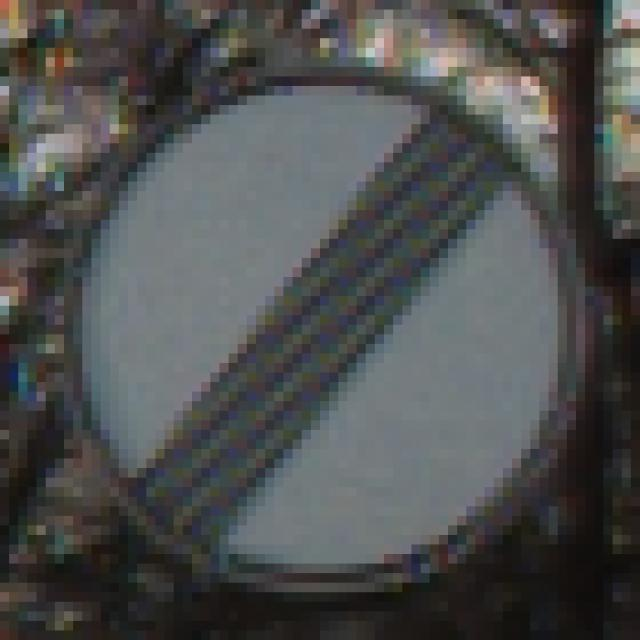restriction ends: (32, 47, 617, 609)
